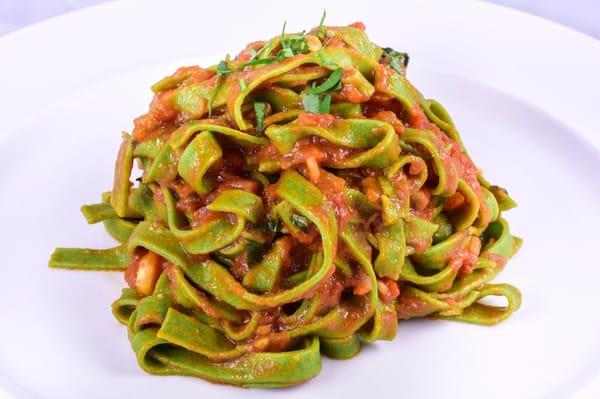sandwich: (101, 22, 522, 371)
